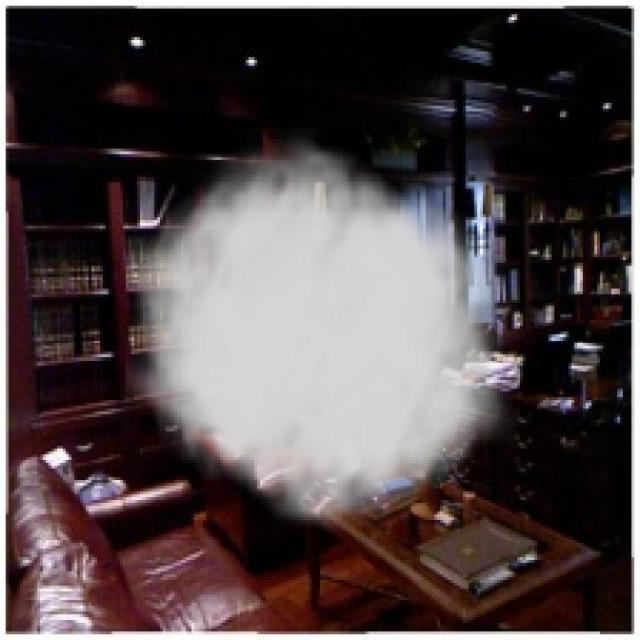Smoke: (125, 128, 520, 543)
